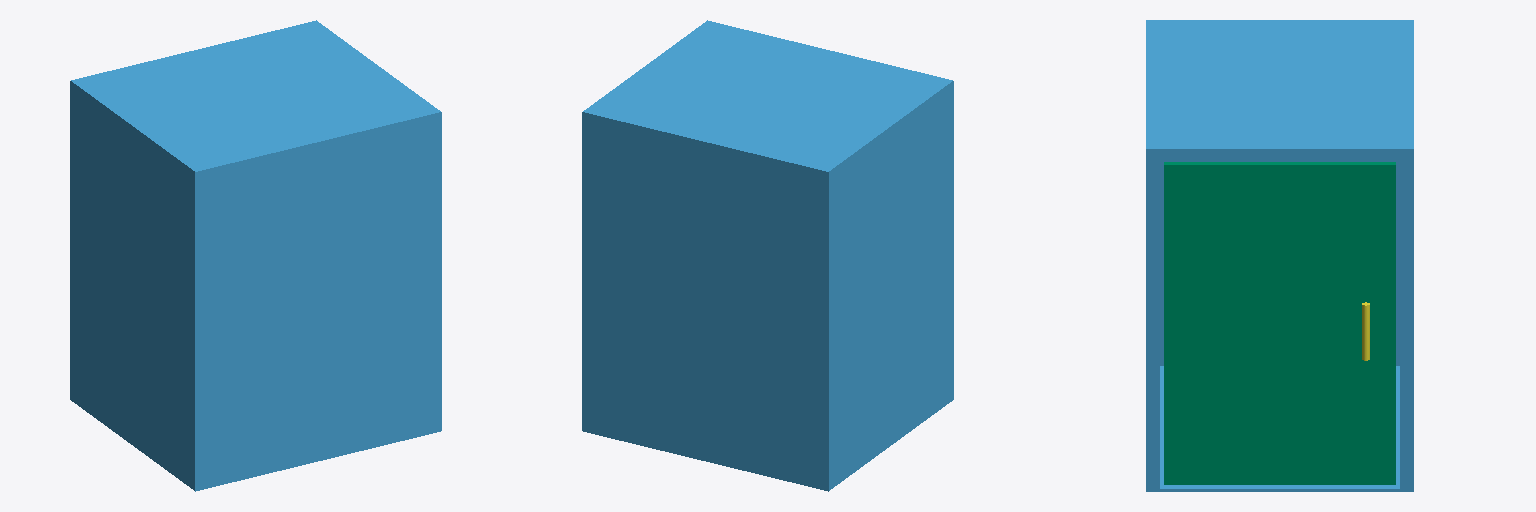
robot.urdf — my_cabinet:
<?xml version="1.0" ?>
<robot name="my_cabinet">
	<link name="world"/>
	<joint name="virtual_joint" type="fixed">
		<parent link="world"/>
		<child link="base_cabinet_link"/>
		<origin xyz="0.0 0.0 0.0" rpy="0.0 0.0 0.0"/>
	</joint>
	<link name="base_cabinet_link">
		<visual>
			<origin xyz="0.0 0.0 -0.23908224793349045" rpy="0.0 0.0 0.0"/>
			<geometry>
				<box size="0.4 0.3519139885873857 0.004"/>
			</geometry>
		</visual>
		<collision name="base_cabinet_link_collision_0">
			<origin xyz="0.0 0.0 -0.23908224793349045" rpy="0.0 0.0 0.0"/>
			<geometry>
				<box size="0.4 0.3519139885873857 0.004"/>
			</geometry>
		</collision>
		<visual>
			<origin xyz="0.0 0.16695699429369285 0.007" rpy="0.0 0.0 0.0"/>
			<geometry>
				<box size="0.4 0.018 0.4961644958669809"/>
			</geometry>
		</visual>
		<collision name="base_cabinet_link_collision_1">
			<origin xyz="0.0 0.16695699429369285 0.007" rpy="0.0 0.0 0.0"/>
			<geometry>
				<box size="0.4 0.018 0.4961644958669809"/>
			</geometry>
		</collision>
		<visual>
			<origin xyz="0.0 -0.16695699429369285 0.007" rpy="0.0 0.0 0.0"/>
			<geometry>
				<box size="0.4 0.018 0.4961644958669809"/>
			</geometry>
		</visual>
		<collision name="base_cabinet_link_collision_2">
			<origin xyz="0.0 -0.16695699429369285 0.007" rpy="0.0 0.0 0.0"/>
			<geometry>
				<box size="0.4 0.018 0.4961644958669809"/>
			</geometry>
		</collision>
		<visual>
			<origin xyz="0.0 0.0 0.24608224793349046" rpy="0.0 0.0 0.0"/>
			<geometry>
				<box size="0.4 0.3519139885873857 0.018"/>
			</geometry>
		</visual>
		<collision name="base_cabinet_link_collision_3">
			<origin xyz="0.0 0.0 0.24608224793349046" rpy="0.0 0.0 0.0"/>
			<geometry>
				<box size="0.4 0.3519139885873857 0.018"/>
			</geometry>
		</collision>
		<visual>
			<origin xyz="-0.191 0.0 0.007" rpy="0.0 0.0 0.0"/>
			<geometry>
				<box size="0.018 0.3519139885873857 0.4961644958669809"/>
			</geometry>
		</visual>
		<collision name="base_cabinet_link_collision_4">
			<origin xyz="-0.191 0.0 0.007" rpy="0.0 0.0 0.0"/>
			<geometry>
				<box size="0.018 0.3519139885873857 0.4961644958669809"/>
			</geometry>
		</collision>
		<inertial>
			<mass value="0.200000"/>
			<inertia ixx="0.006167" ixy="0.0" ixz="0.0" iyy="0.006770" iyz="0.0" izz="0.004731"/>
		</inertial>
	</link>
	<link name="door_link">
		<visual>
			<origin xyz="0.0 -0.14295699429369285 0.0"/>
			<geometry>
				<box size="0.018 0.3059139885873857 0.4641644958669809"/>
			</geometry>
		</visual>
		<collision name="door_link_collision">
			<origin xyz="0.0 -0.14295699429369285 0.0"/>
			<geometry>
				<box size="0.018 0.3059139885873857 0.4641644958669809"/>
			</geometry>
		</collision>
		<inertial>
			<mass value="0.200000"/>
			<inertia ixx="0.005151" ixy="0.0" ixz="0.0" iyy="0.003596" iyz="0.0" izz="0.001565"/>
		</inertial>
	</link>
	<joint name="door_joint" type="revolute">
		<origin xyz="0.191 -0.14295699429369285 0.0" rpy="0.000000 -0.000000 3.141593"/>
		<axis xyz="0 0 1"/>
		<parent link="base_cabinet_link"/>
		<child link="door_link"/>
		<limit effort="50" lower="0" upper="-1.5707963267948966" velocity="10"/>
		<dynamics friction="1.0"/>
	</joint>
	<link name="handle_link">
		<visual>
			<origin xyz="0.0 0.0 0.0" rpy="0.0 0.0 0.0"/>
			<geometry>
				<cylinder length="0.08" radius="0.005"/>
			</geometry>
		</visual>
		<collision name="handle_link_collision_0">
			<origin xyz="0.0 0.0 0.0" rpy="0.0 0.0 0.0"/>
			<geometry>
				<cylinder length="0.08" radius="0.005"/>
			</geometry>
		</collision>
		<visual>
			<origin xyz="-0.01 0.0 0.02" rpy="0.0 1.5707963267948966 0.0"/>
			<geometry>
				<cylinder length="0.02" radius="0.003"/>
			</geometry>
		</visual>
		<collision name="handle_link_collision_1">
			<origin xyz="-0.01 0.0 0.02" rpy="0.0 1.5707963267948966 0.0"/>
			<geometry>
				<cylinder length="0.01" radius="0.003"/>
			</geometry>
		</collision>
		<visual>
			<origin xyz="-0.01 0.0 -0.02" rpy="0.0 1.5707963267948966 0.0"/>
			<geometry>
				<cylinder length="0.02" radius="0.003"/>
			</geometry>
		</visual>
		<collision name="handle_link_collision_2">
			<origin xyz="-0.01 0.0 -0.02" rpy="0.0 1.5707963267948966 0.0"/>
			<geometry>
				<cylinder length="0.02" radius="0.003"/>
			</geometry>
		</collision>
		<inertial>
			<mass value="0.050000"/>
			<inertia ixx="0.000027" ixy="0.0" ixz="0.0" iyy="0.000029" iyz="0.0" izz="0.000003"/>
		</inertial>
	</link>
	<joint name="handle_joint" type="fixed">
		<origin xyz="-0.028999999999999998 -0.25591398858738573 0.0" rpy="0.000000 -0.000000 3.141593"/>
		<parent link="door_link"/>
		<child link="handle_link"/>
	</joint>
	<gazebo reference="base_cabinet_link">
		<sensor name="main_sensor" type="contact">
			<selfCollide>true</selfCollide>
			<alwaysOn>true</alwaysOn>
			<updateRate>5.0</updateRate>
			<material>Gazebo/Red</material>
			<contact>
				<collision>base_cabinet_link_collision_0_collision</collision>
				<collision>base_cabinet_link_collision_1_collision</collision>
				<collision>base_cabinet_link_collision_2_collision</collision>
				<collision>base_cabinet_link_collision_3_collision</collision>
				<collision>base_cabinet_link_collision_4_collision</collision>
			</contact>
			<plugin name="gazebo_ros_bumper_controller" filename="libgazebo_ros_bumper.so">
				<bumperTopicName>/contact</bumperTopicName>
				<frameName>world</frameName>
			</plugin>
		</sensor>
	</gazebo>
	<gazebo reference="door_link">
		<sensor name="main_sensor" type="contact">
			<selfCollide>true</selfCollide>
			<alwaysOn>true</alwaysOn>
			<updateRate>5.0</updateRate>
			<material>Gazebo/Red</material>
			<contact>
				<collision>door_link_collision_collision</collision>
			</contact>
			<plugin name="gazebo_ros_bumper_controller" filename="libgazebo_ros_bumper.so">
				<bumperTopicName>/contact_door</bumperTopicName>
				<frameName>contact_door</frameName>
			</plugin>
		</sensor>
	</gazebo>
</robot>

--- What the picture shows (computed from the rendered views, not written in the file) ---
The picture shows the robot from 3 angles, left to right: view 1: azimuth 30°, elevation 25°; view 2: azimuth 150°, elevation 25°; view 3: azimuth 270°, elevation 25°; orthographic projection.
Robot: my_cabinet — 4 links, 3 joints (1 revolute, 2 fixed); root link world; default pose: every joint at zero.
Links seen in each view (by area): view 1: base_cabinet_link; view 2: base_cabinet_link; view 3: door_link, base_cabinet_link.
Link boxes in pixels (x1=…): base_cabinet_link: x1=70, y1=20, x2=441, y2=491; base_cabinet_link: x1=582, y1=20, x2=953, y2=491; door_link: x1=1164, y1=162, x2=1395, y2=484; base_cabinet_link: x1=1146, y1=20, x2=1413, y2=491.
Bounding box of the posed robot: 0.425 × 0.3519 × 0.4962 m (x, y, z).
Geometry: primitives only (box / cylinder / sphere), no mesh files.
